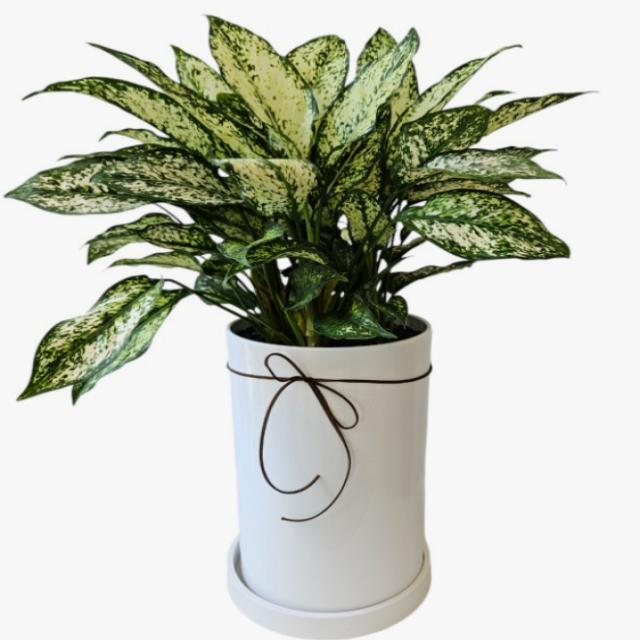Plant Pot: (215, 309, 463, 640)
